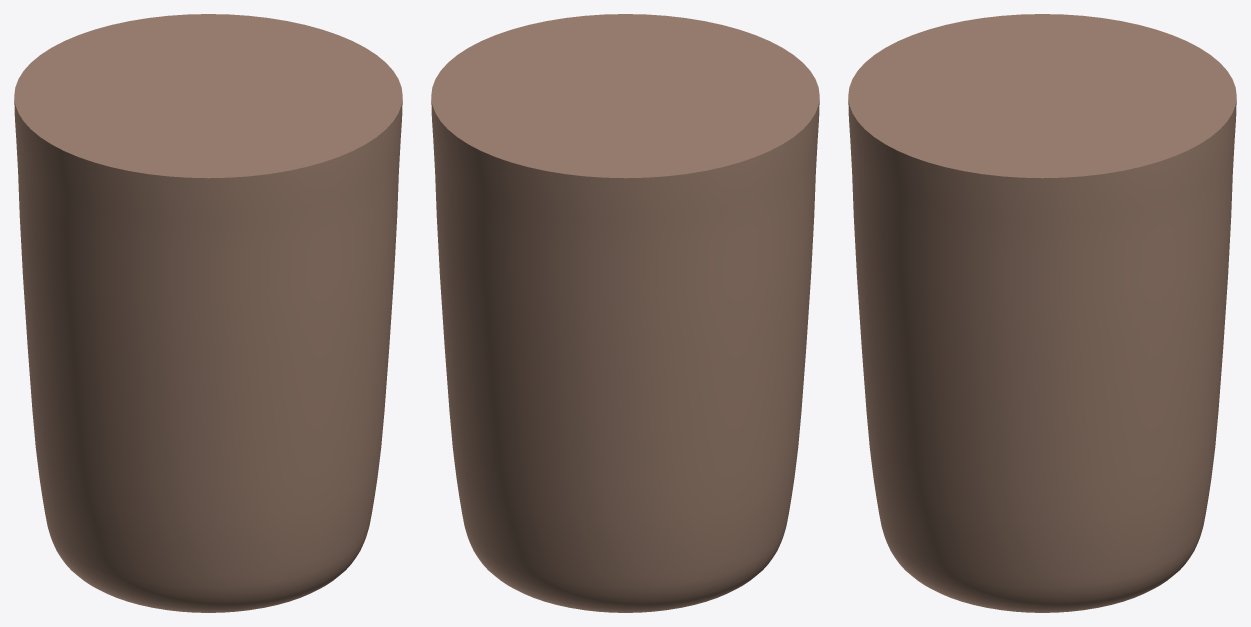
The model's file is Tea.glb.
3 renders of one model, left to right at view 1: azimuth 30°, elevation 25°; view 2: azimuth 150°, elevation 25°; view 3: azimuth 270°, elevation 25°, orthographic.
Visible parts, largest first — view 1: Tea; view 2: Tea; view 3: Tea.
Boxes of the visible parts, left/top/right/bottom form: Tea: left=14, top=14, right=402, bottom=612; Tea: left=431, top=14, right=819, bottom=612; Tea: left=848, top=14, right=1236, bottom=612.
Size of the model in its own units: 8.13 by 10.69 by 8.13.
